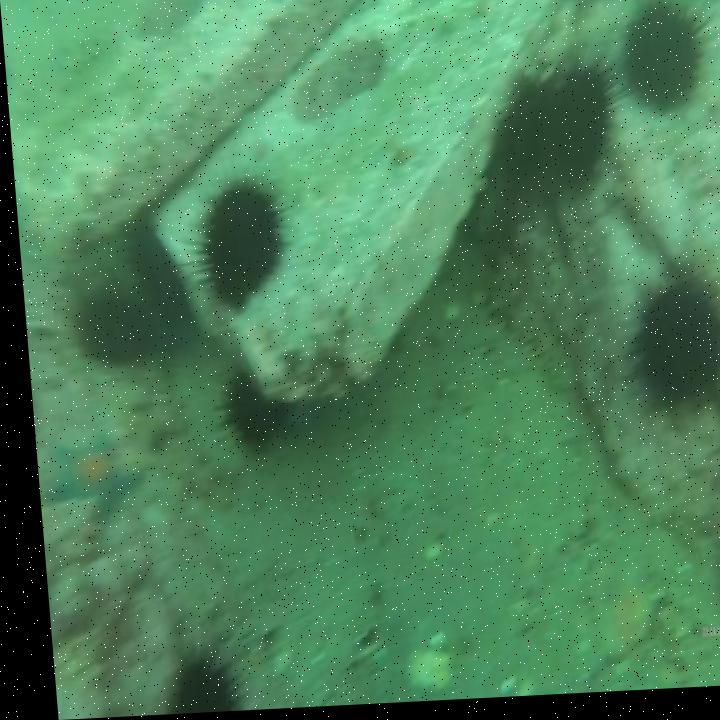echinus: (165, 172, 296, 316), (608, 266, 720, 431), (608, 0, 720, 127), (547, 68, 632, 193), (198, 355, 293, 464), (108, 207, 187, 338), (489, 58, 558, 206), (62, 272, 154, 373), (147, 637, 238, 715)
starfish: (31, 417, 141, 528)
